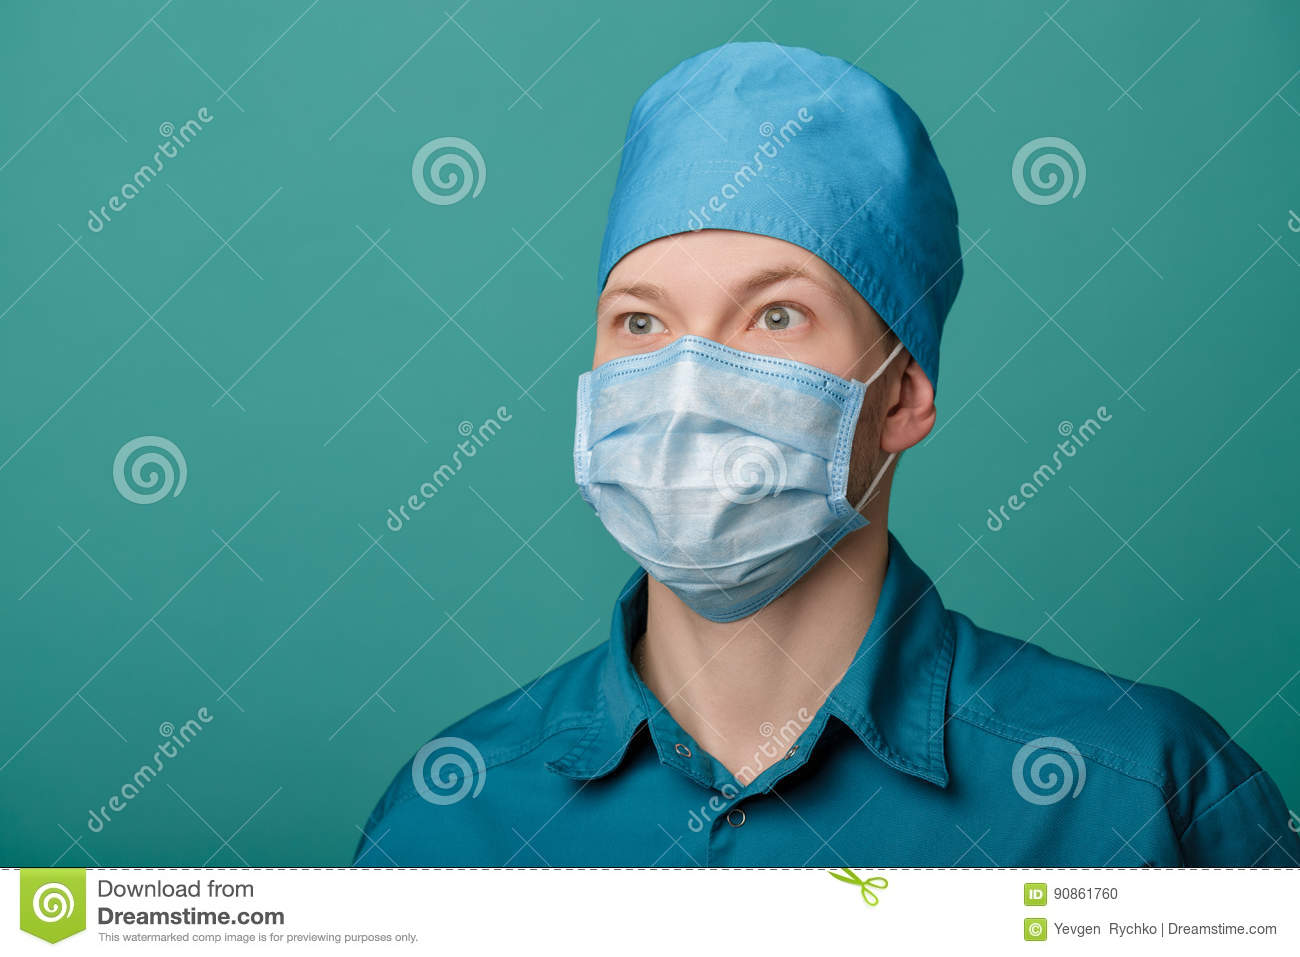mask: (567, 335, 876, 620)
